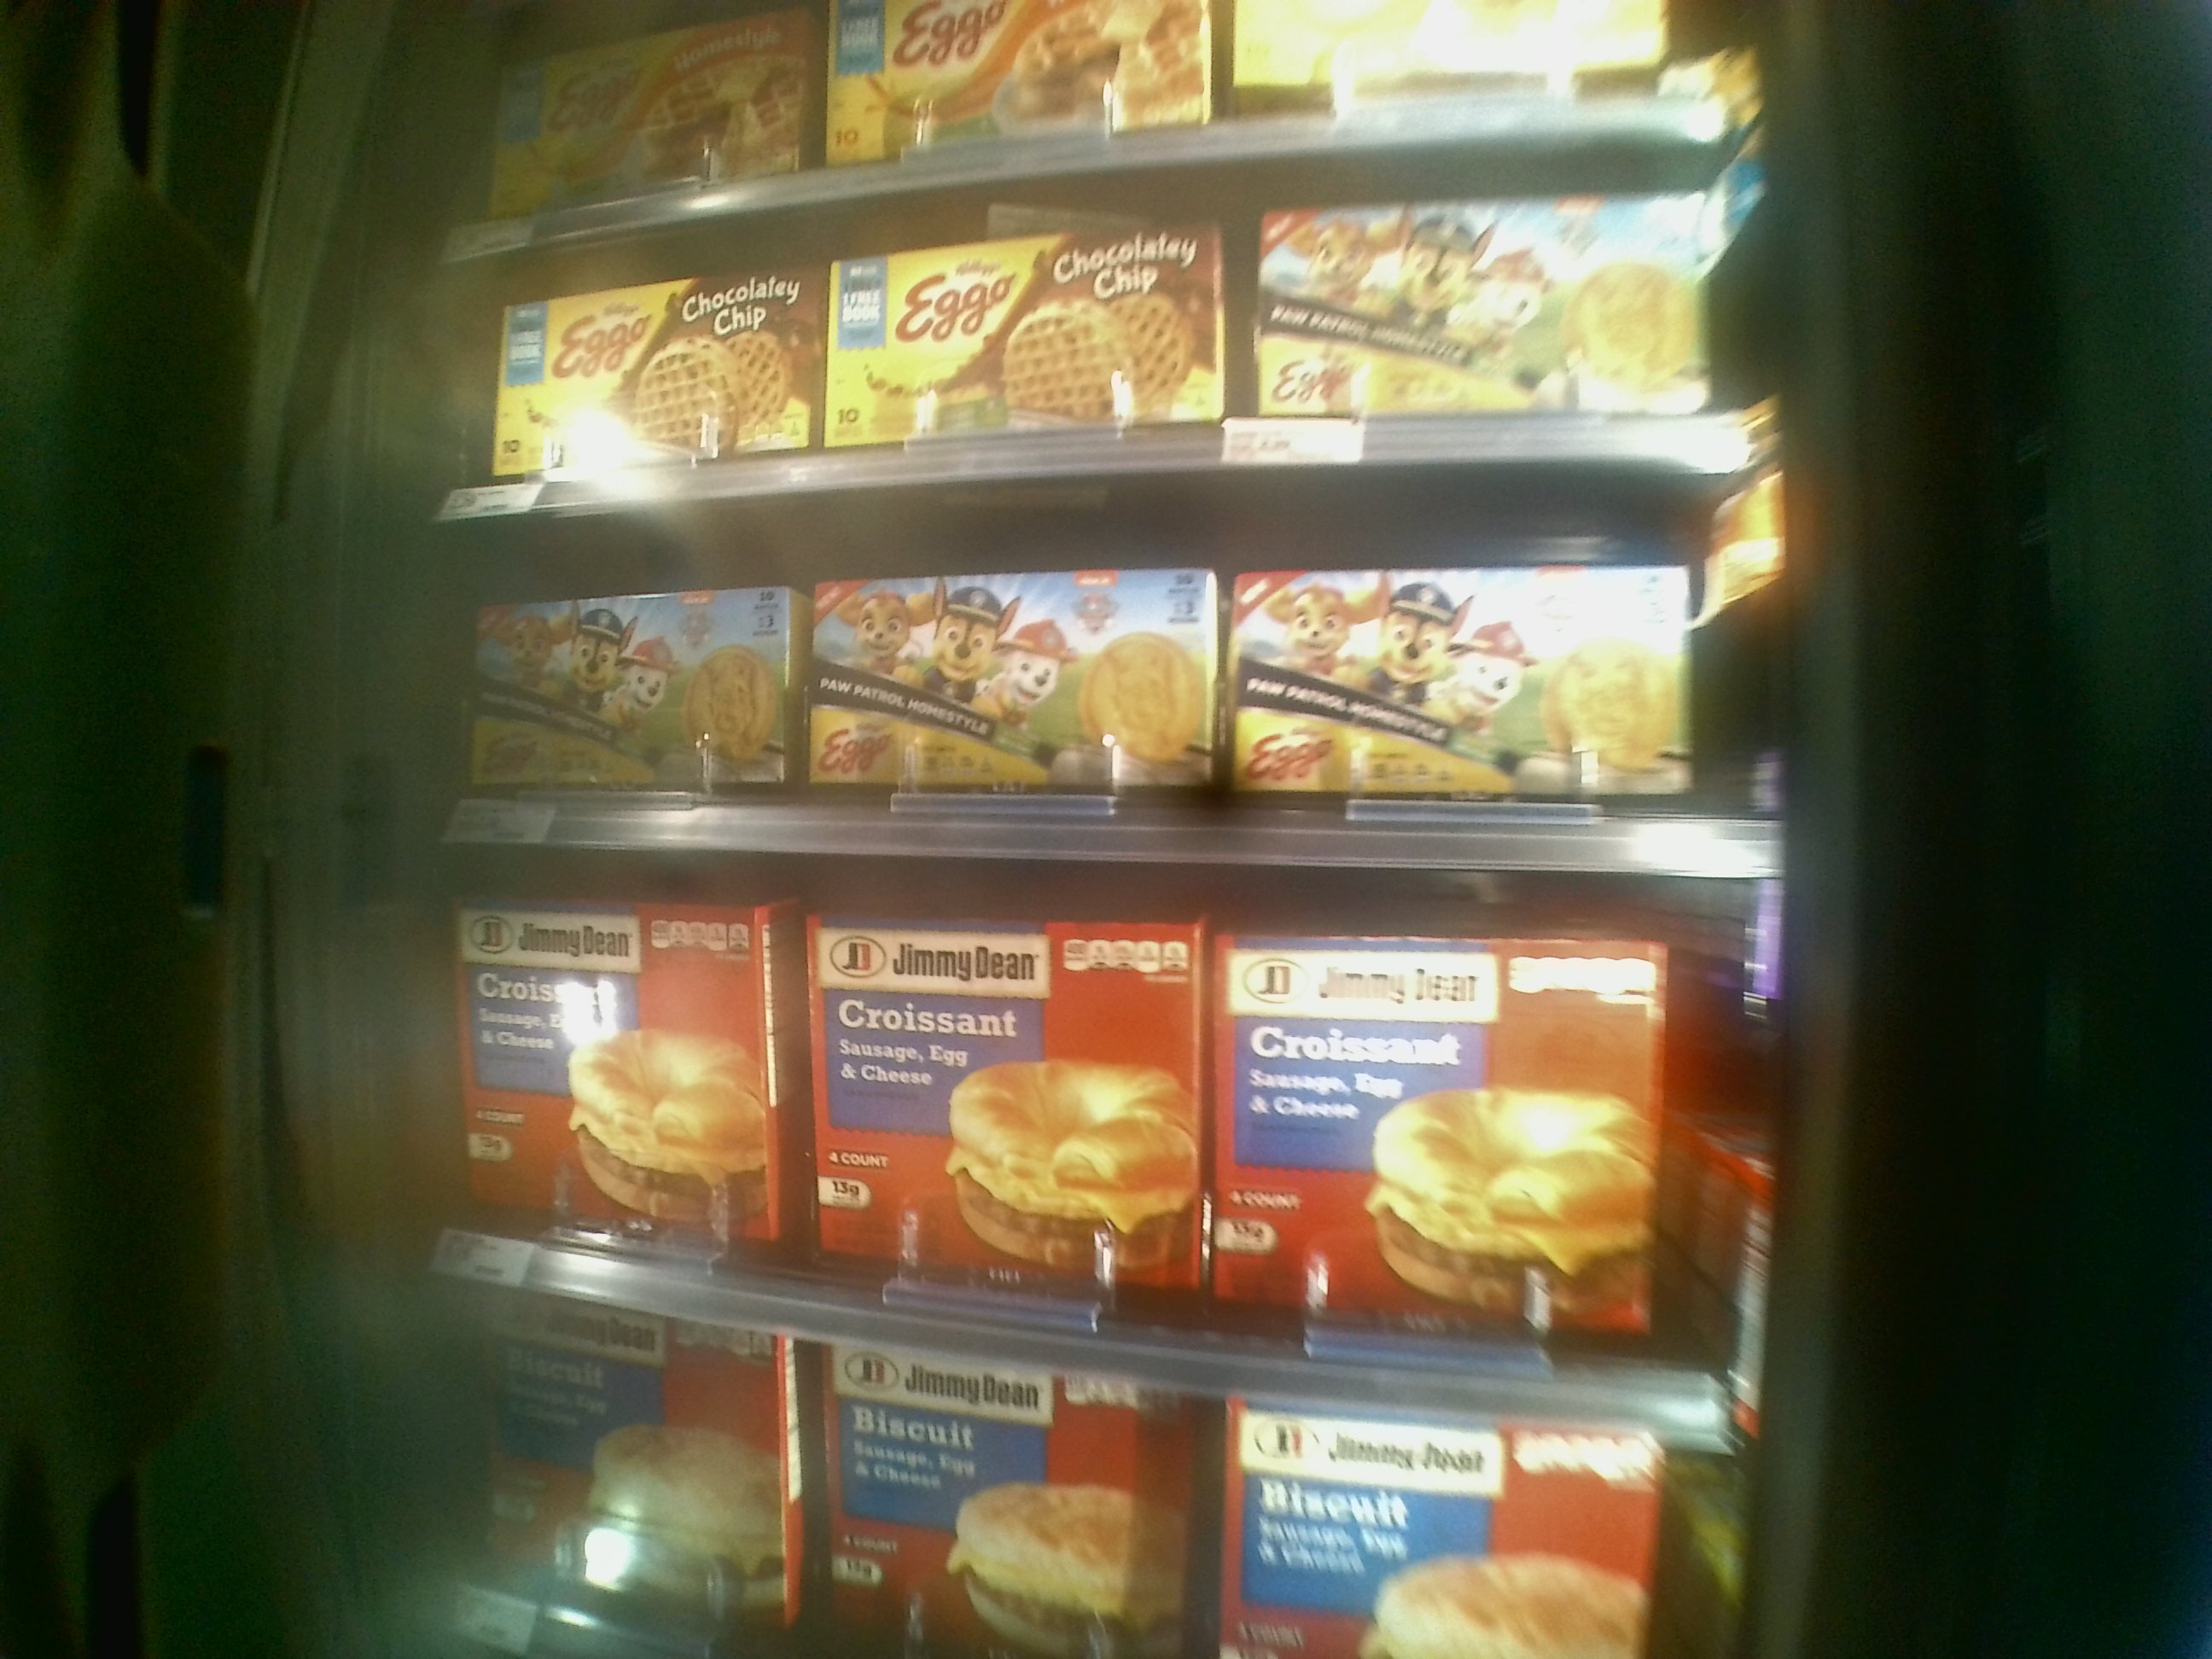shelf: (428, 850, 1766, 1438), (435, 477, 1789, 892)
